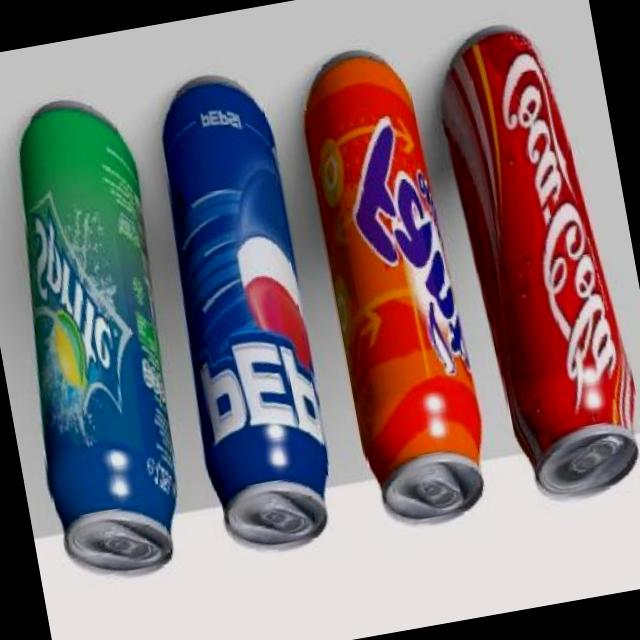can: (285, 34, 503, 540), (426, 7, 640, 516), (134, 61, 350, 565), (0, 86, 211, 593)
